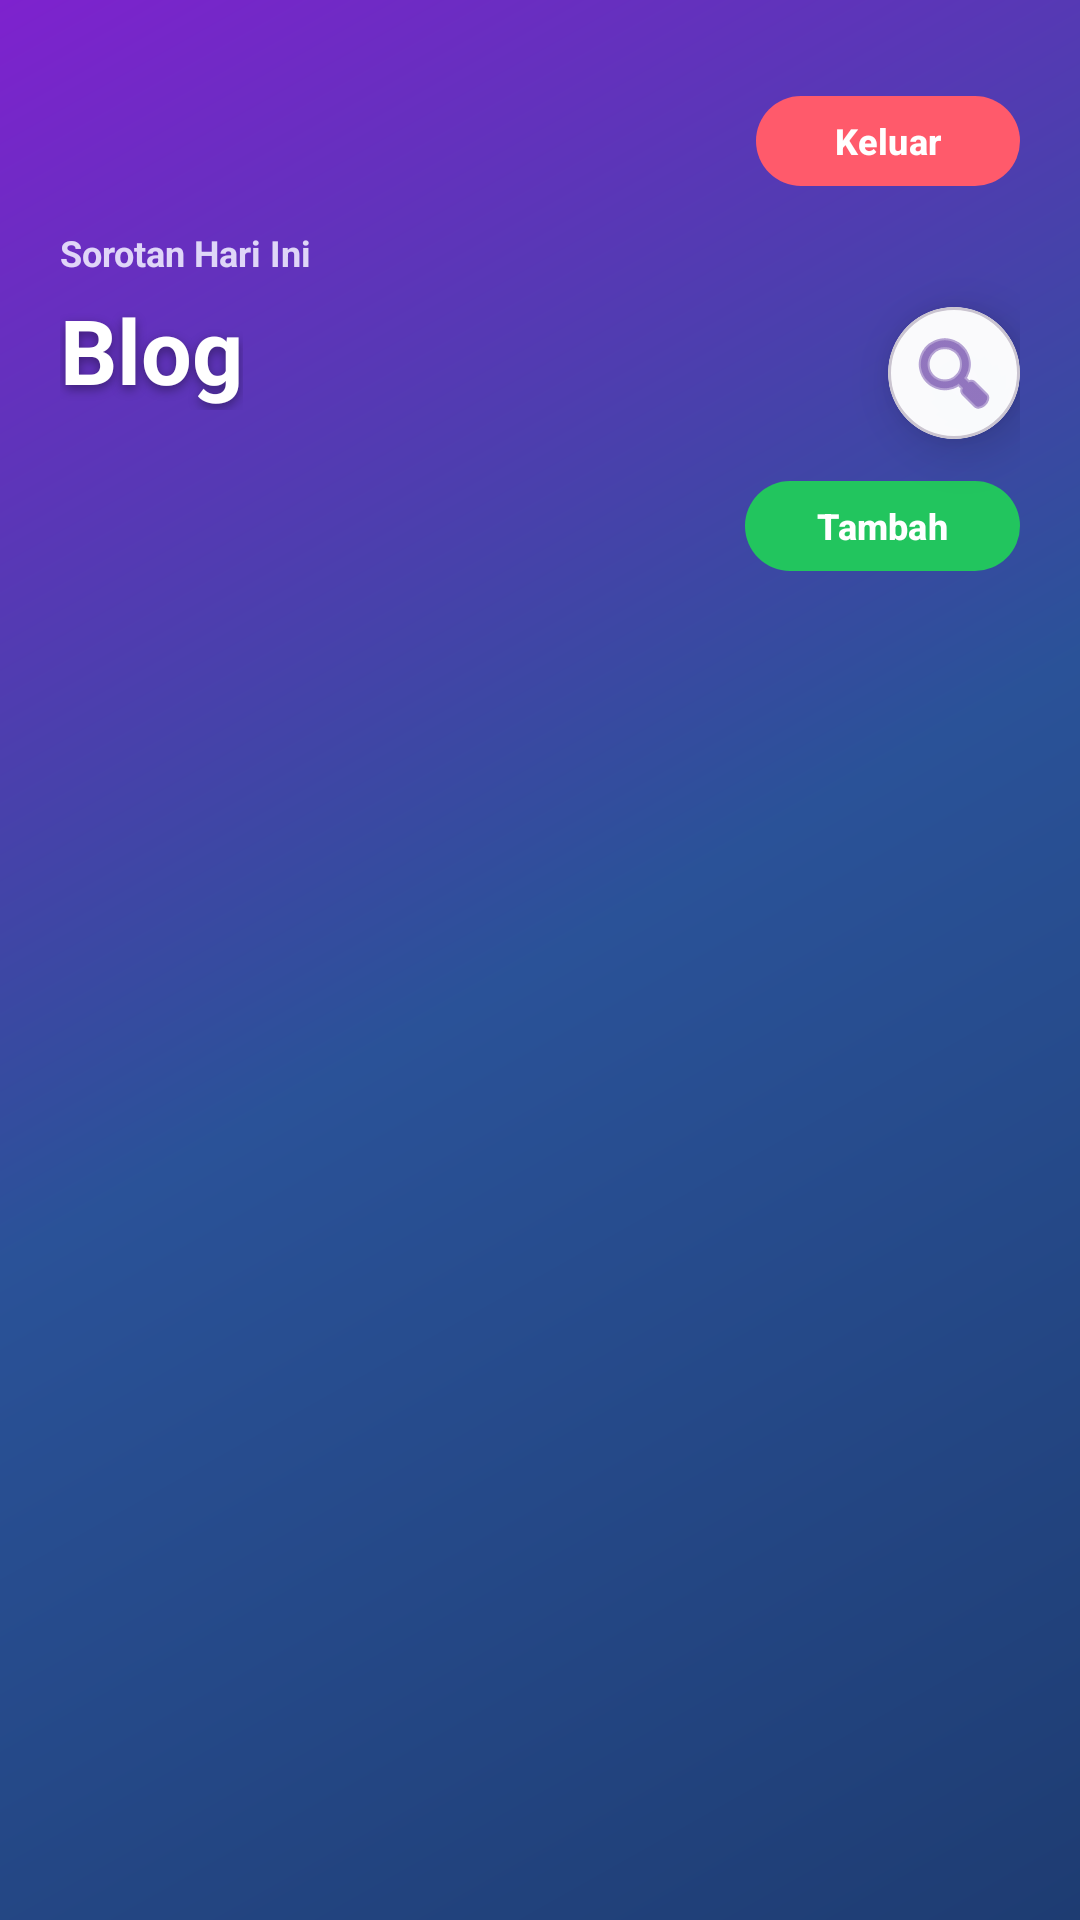

Where icons sit on this 1080x1920 app screen, as (x1, y1, x2, y2):
Cari: (888, 307, 1020, 439)
